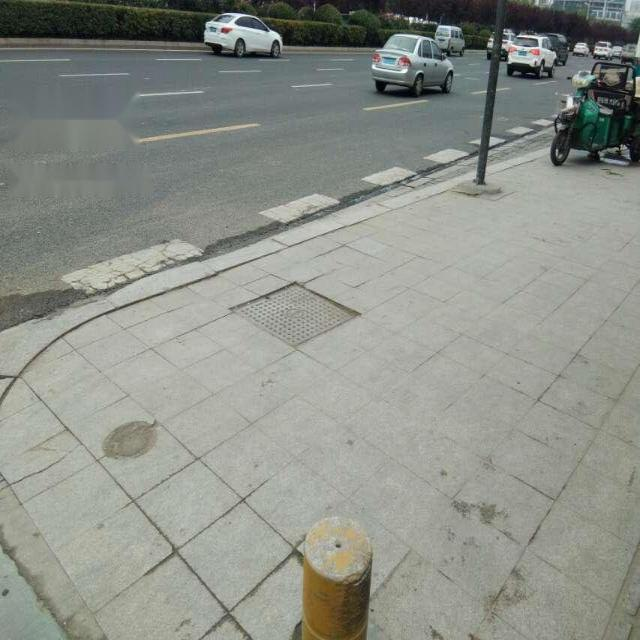car: (546, 57, 638, 168)
fixed_stall: (565, 53, 637, 98)
